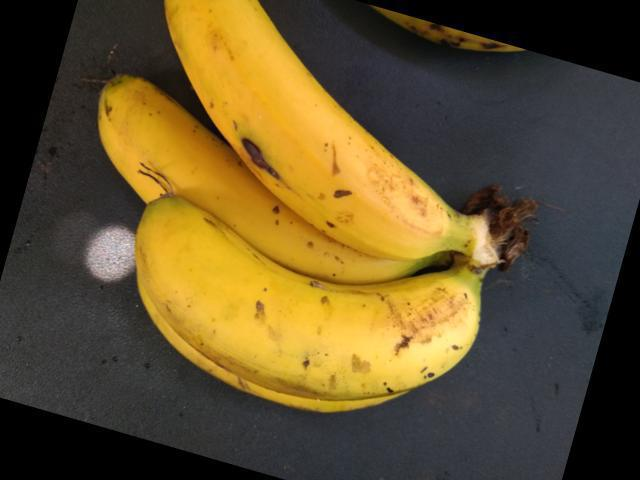ripe: (159, 0, 445, 262), (118, 205, 490, 399), (93, 79, 326, 253)
